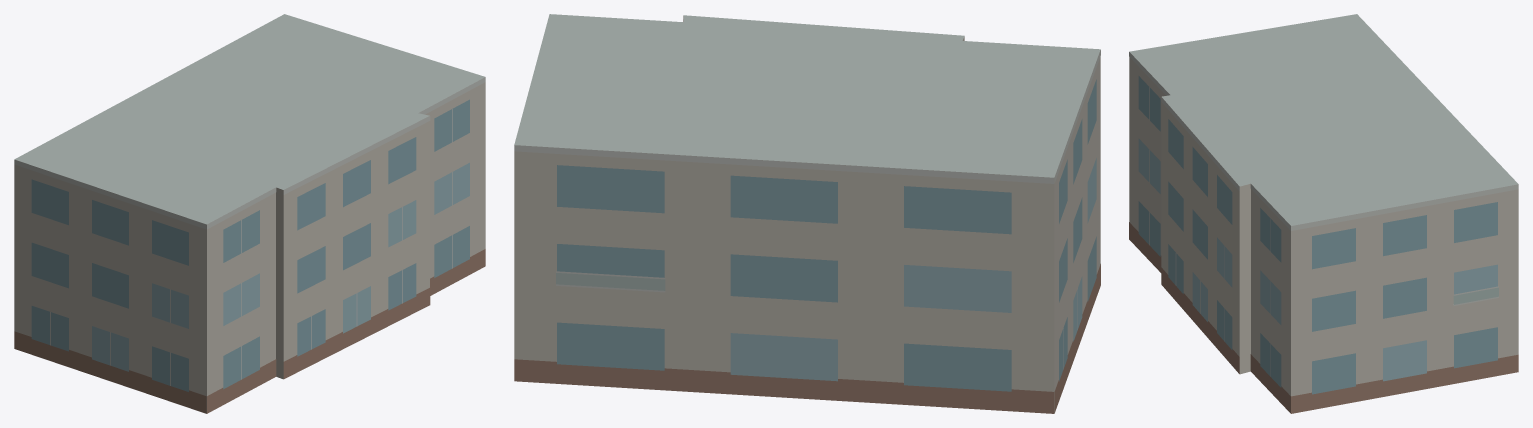
The model's file is survey-upis-32850832.glb.
3 renders of one model, left to right at view 1: azimuth 30°, elevation 25°; view 2: azimuth 150°, elevation 25°; view 3: azimuth 270°, elevation 25°, orthographic. The views are drawn at different scales.
Visible parts, largest first — view 1: survey-upis-32850832.tmp; view 2: survey-upis-32850832.tmp; view 3: survey-upis-32850832.tmp.
Boxes of the visible parts, <box> form: survey-upis-32850832.tmp: <box>14,14,485,413</box>; survey-upis-32850832.tmp: <box>514,14,1100,413</box>; survey-upis-32850832.tmp: <box>1129,14,1518,413</box>.
Bounding box in the file's own units: 22.17 × 9.15 × 17.21.
